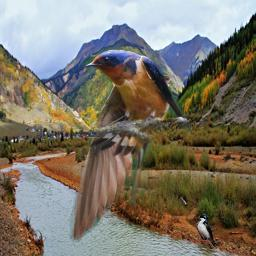Swallow: (69, 47, 192, 242), (196, 214, 218, 249)
